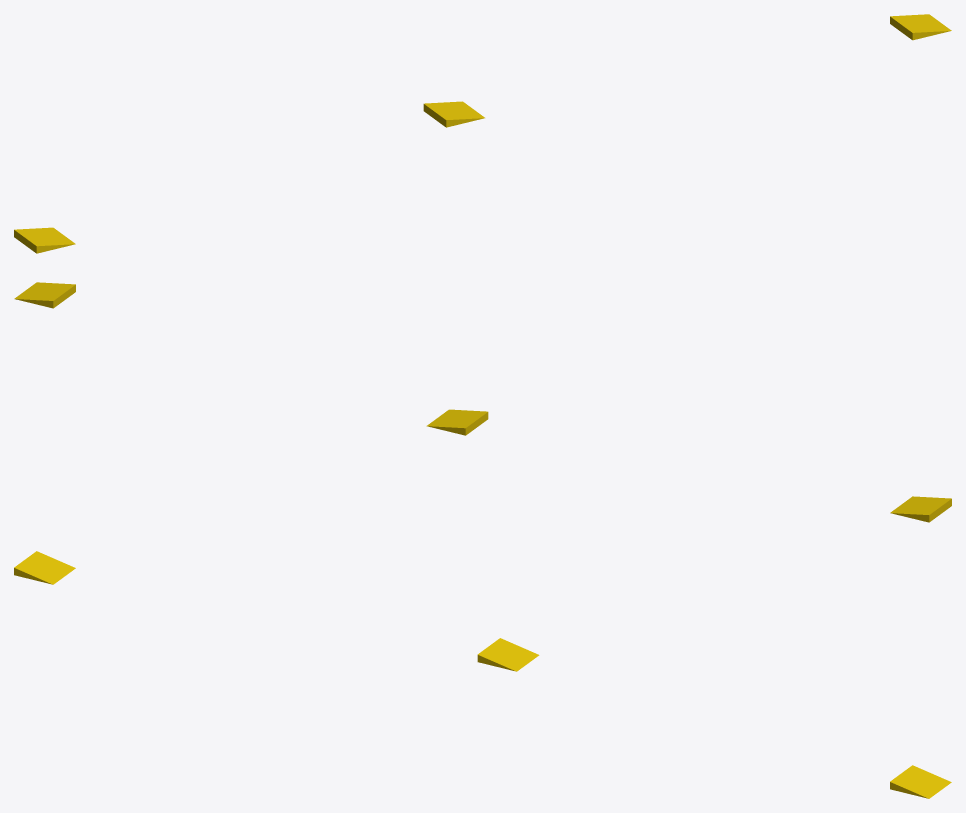
File: trianglebox.glb
3 renders of one model, top to bottom at view 1: azimuth 30°, elevation 25°; view 2: azimuth 150°, elevation 25°; view 3: azimuth 330°, elevation 25°, orthographic.
Visible parts, largest first — view 1: Cube; view 2: Cube; view 3: Cube.
Part boxes in pixels (x1,y1,x2,y2): Cube: (14, 14, 951, 253); Cube: (14, 282, 951, 522); Cube: (14, 551, 951, 798).
Size of the model in its own units: 179 by 1.4 by 16.9.
